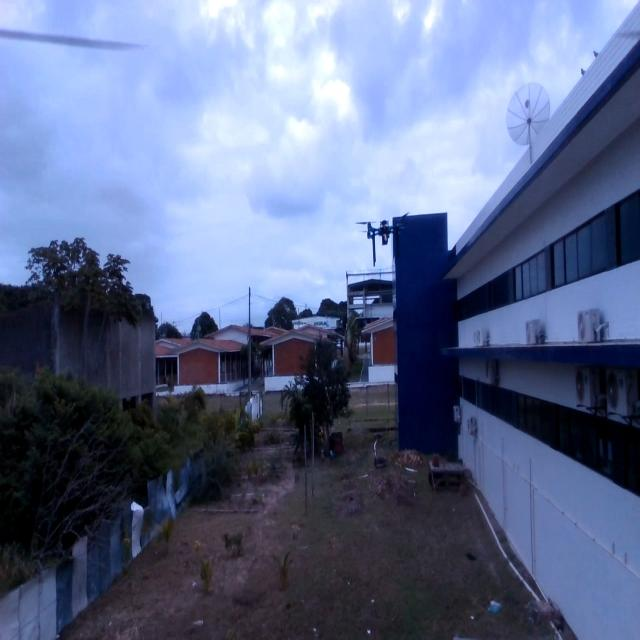-uav-: (347, 209, 422, 274)
